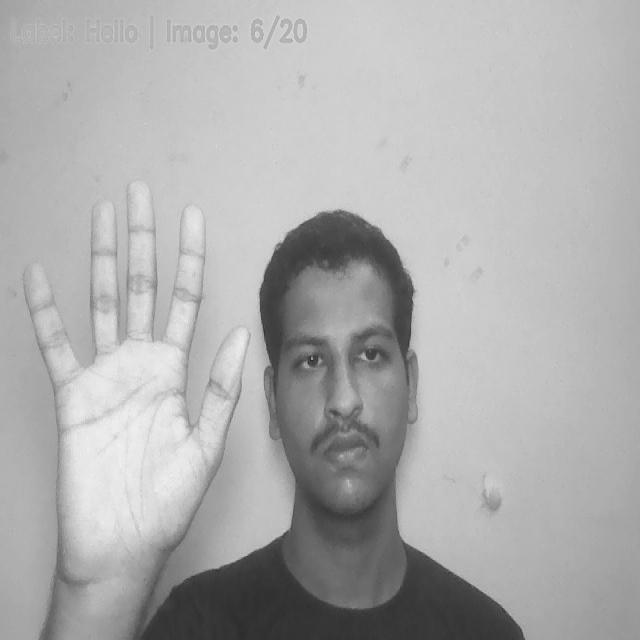Hello: (22, 162, 244, 576)
